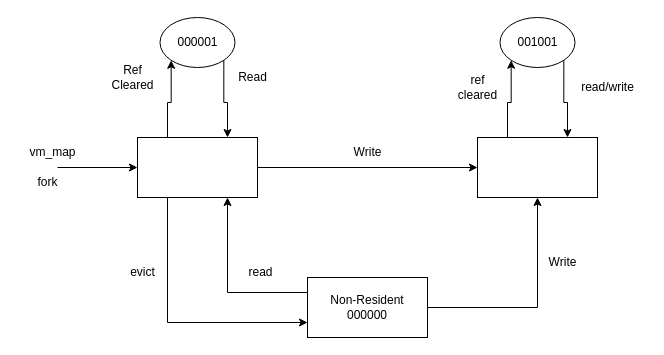
This 664x355 diagram has some shape labels left out. Each missing label, with the centre of its shape:
"Resident Clean 100101" belongs at (197,167).
"Resident Dirty 111101" belongs at (537,167).
